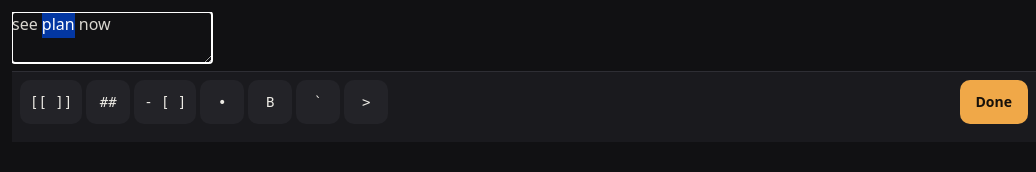
Test case: the Markdown toolbar › Bold wraps the selection and keeps it selected
Click the button named "Bold": (270, 102) 248,80 -> 292,124
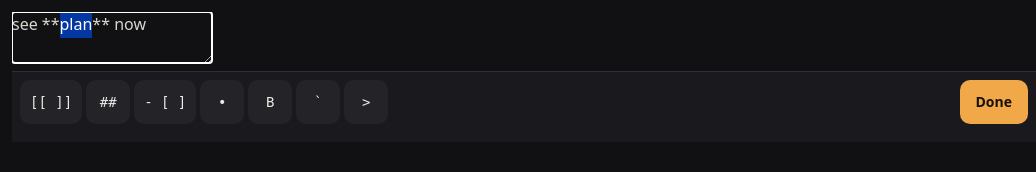
Expected: the text box named "Markdown source" holds "see **plan** now", 12,12 -> 212,63
